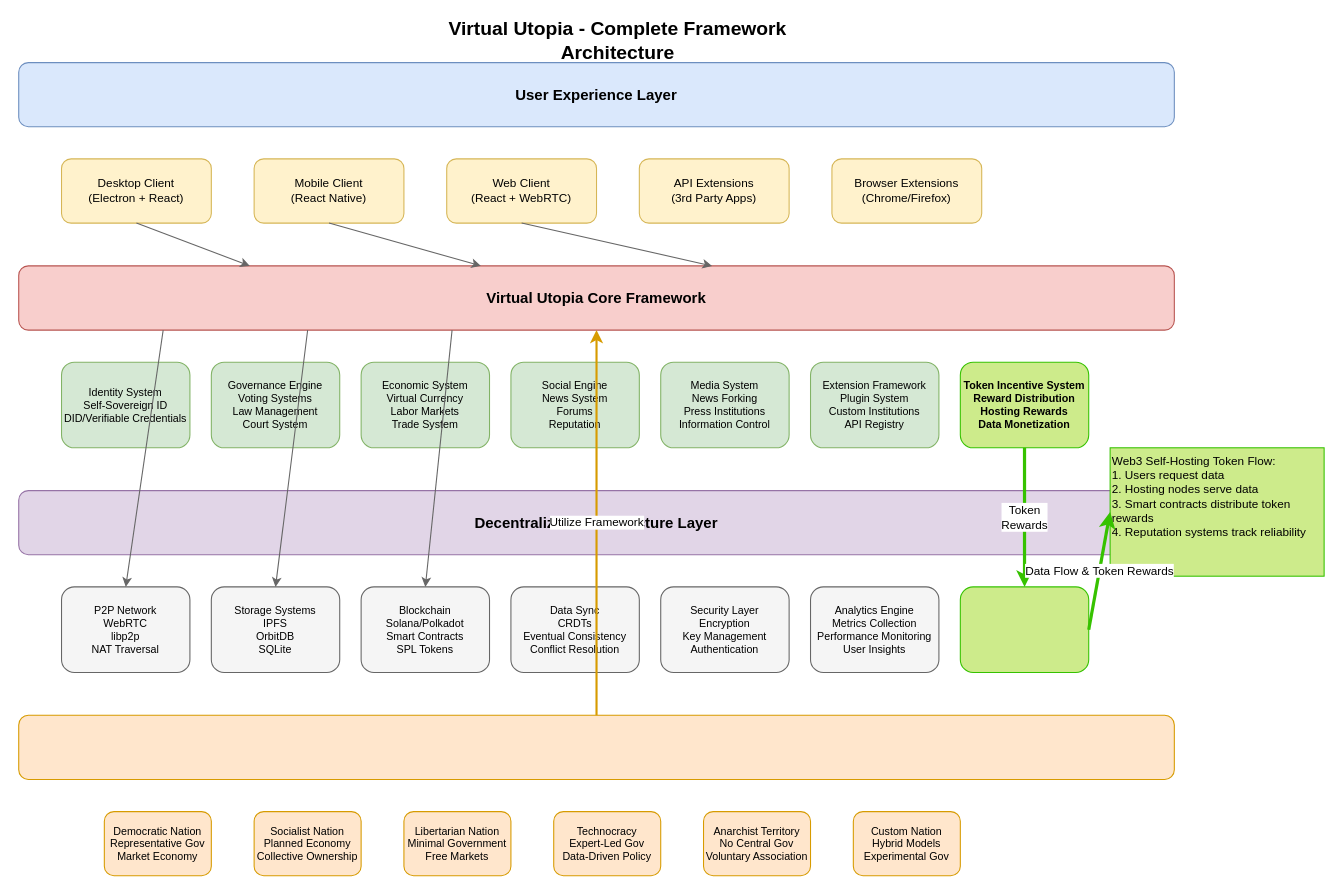
Some shapes in this 1343 by 895 pixel diagram are drawn without their labels. The shapes that lost their labels are listed below. From the top down, each one's centre as x and y in pixels, then its label:
At (1024,629): "Self-Hosting Network Distributed Nodes Token Rewards Data Availability".
At (596,746): "Virtual Nations Ecosystem".
